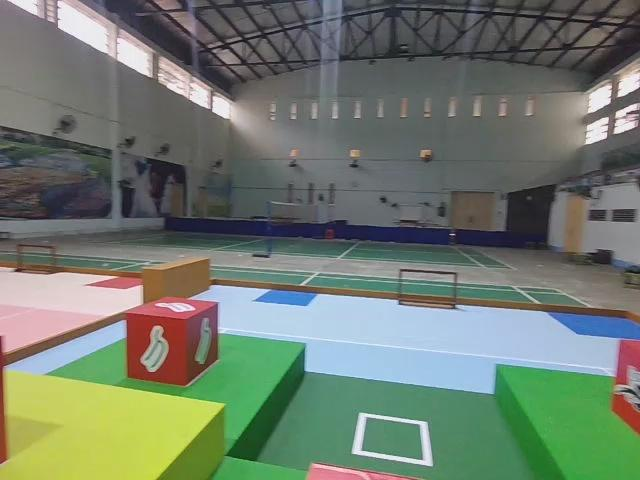R1: (606, 334, 640, 437)
R2 Real: (123, 293, 219, 388)
